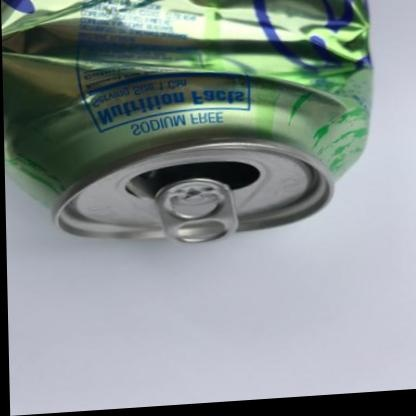trash: (2, 0, 371, 241)
